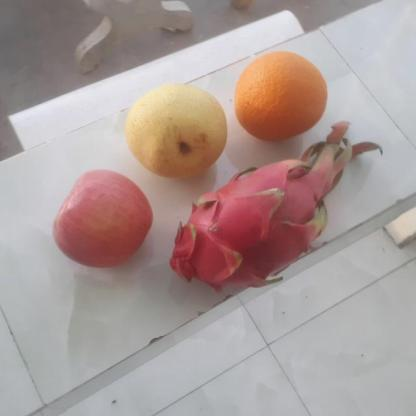apple: (48, 170, 152, 264)
orange: (230, 53, 330, 141)
pear: (118, 84, 228, 179)
pitaya: (165, 155, 325, 290)
